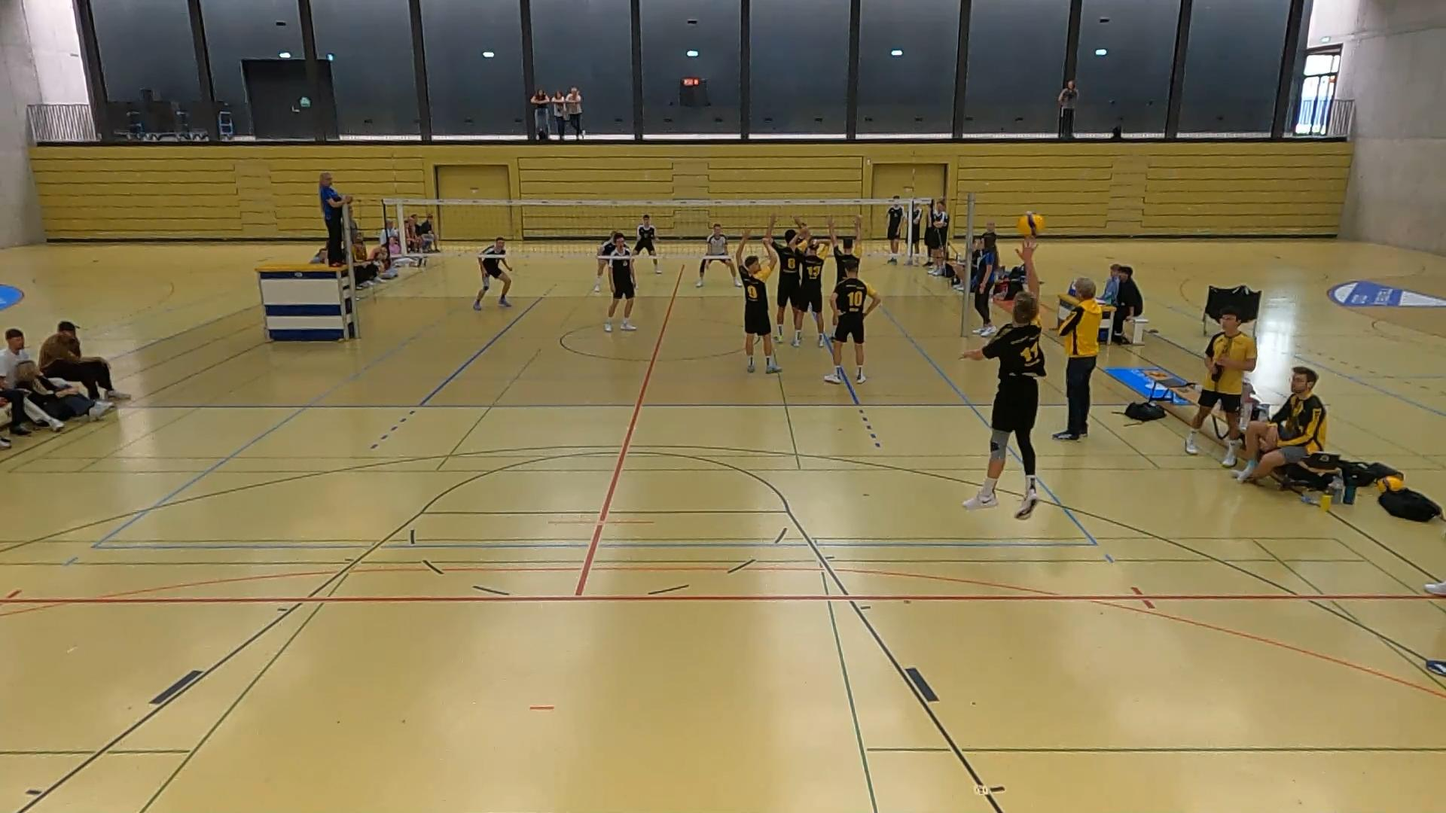Player: (824, 263, 881, 383), (735, 230, 781, 373), (791, 219, 831, 346), (764, 218, 801, 342), (604, 233, 635, 331), (473, 236, 511, 309), (696, 223, 740, 286), (828, 219, 860, 284), (593, 232, 622, 292), (633, 215, 660, 273)
Serve: (947, 237, 1059, 529)
ball: (1019, 208, 1048, 242)
